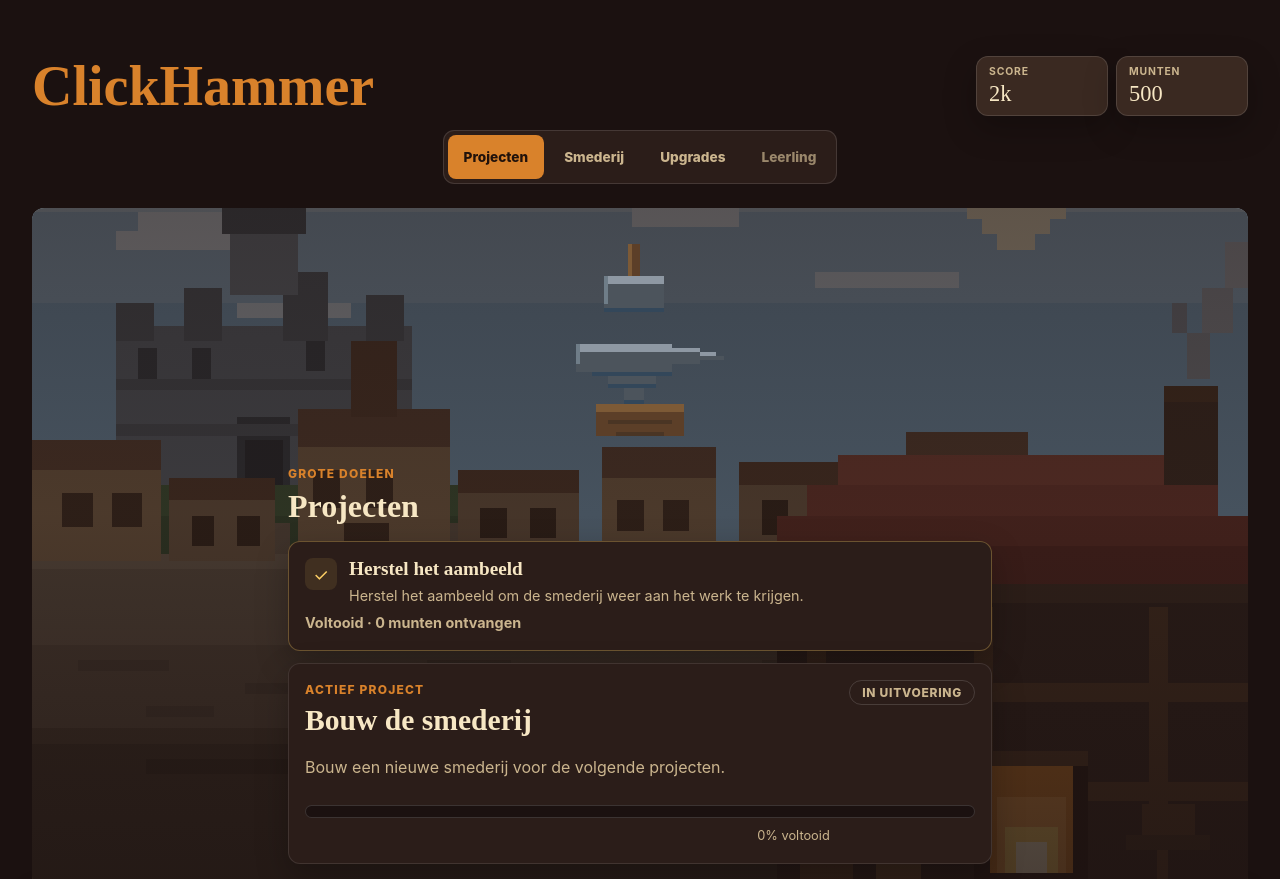
auto-clicker integration in App › shows the waiting status until an order is active
Click the tab with class "game-navigation__tab" showing "Upgrades": click(693, 157) [644, 135, 742, 179]
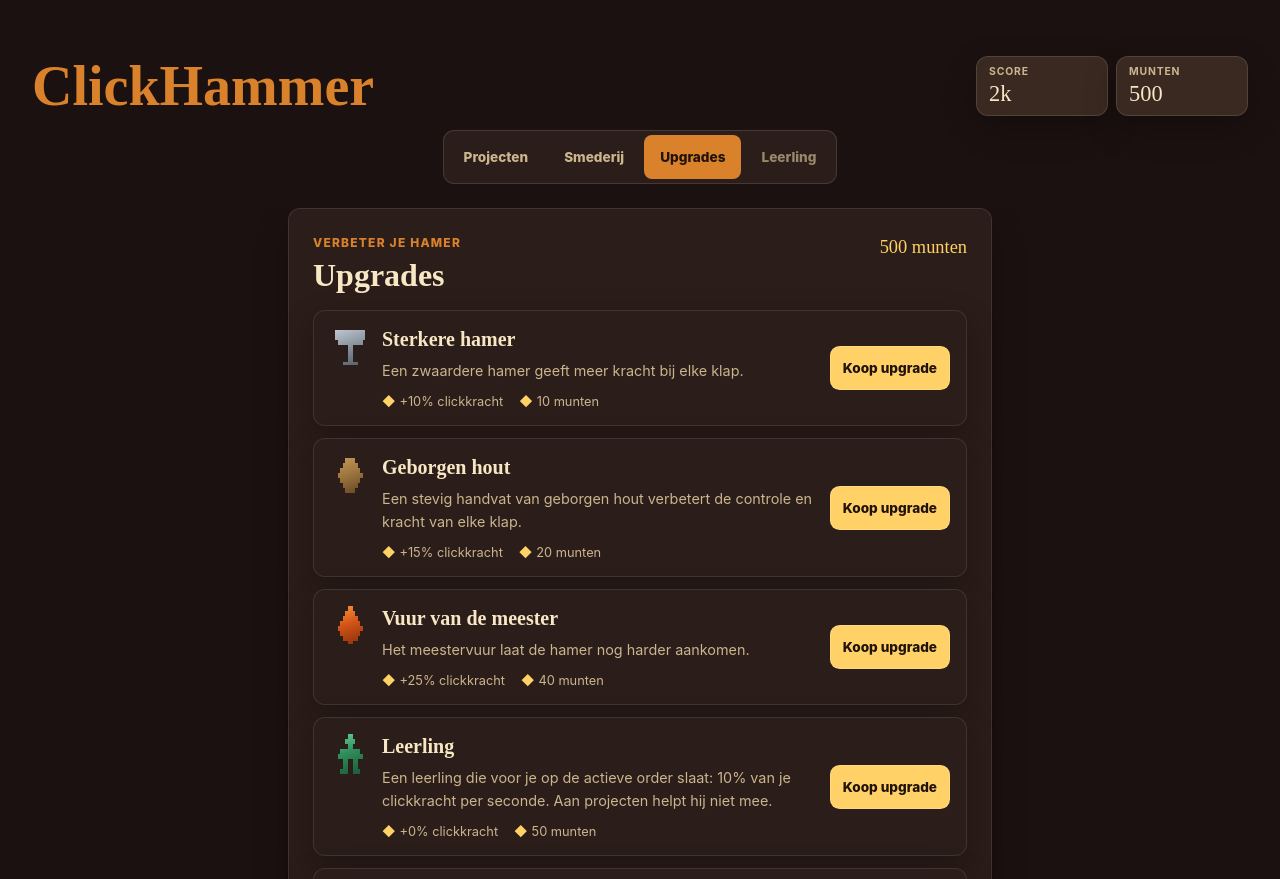
Click the 4th button "Koop upgrade": click(890, 787) [830, 765, 950, 809]
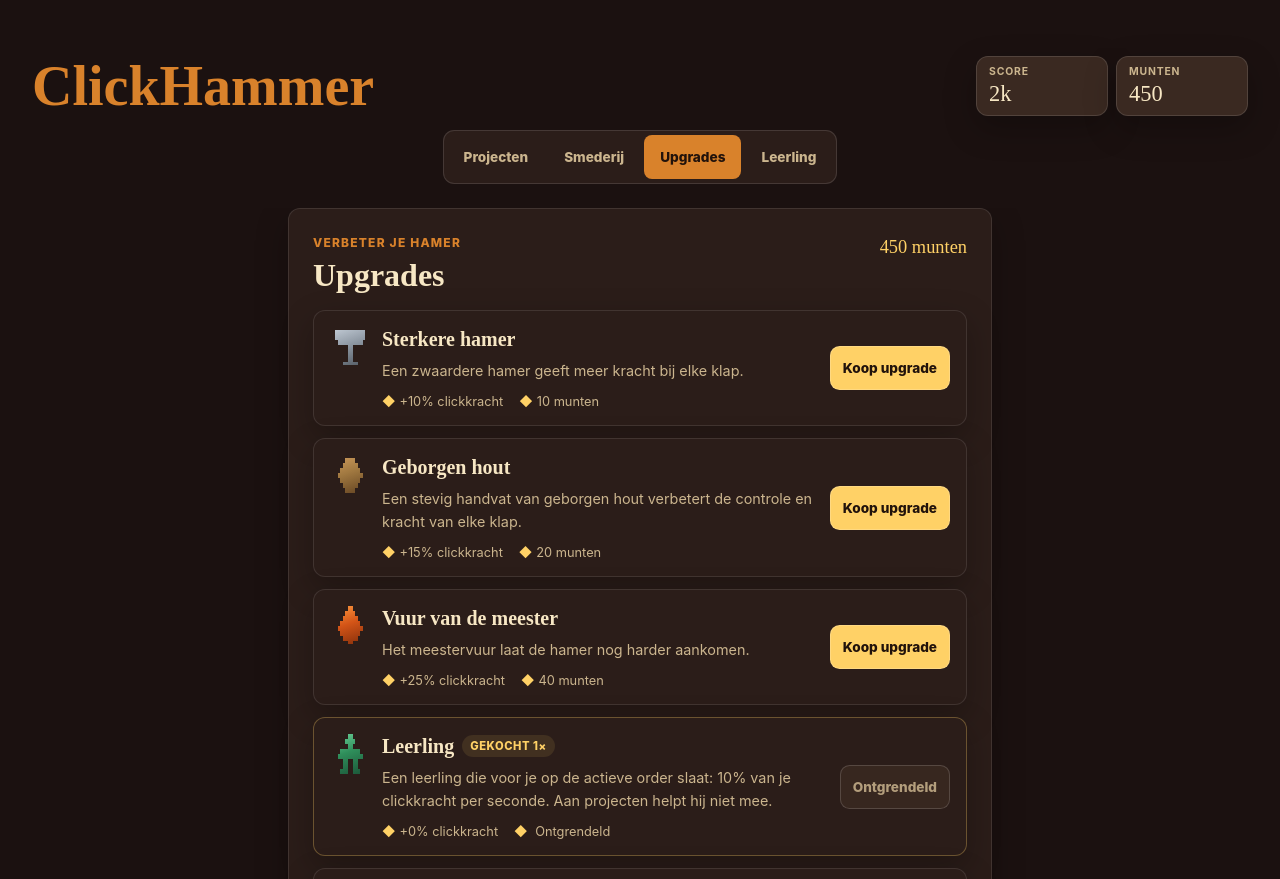
Click the tab with class "game-navigation__tab" showing "Leerling": click(789, 157) [746, 135, 832, 179]
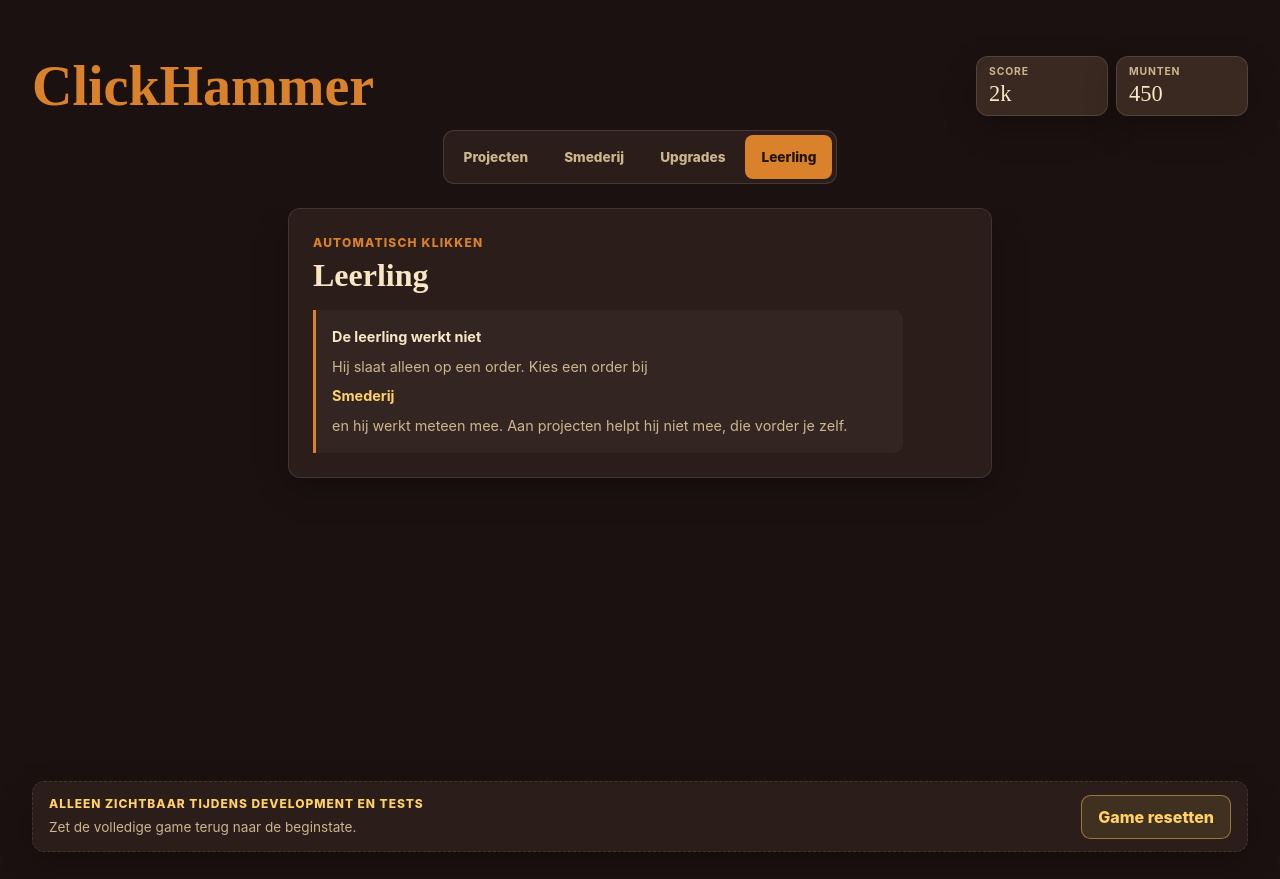
Expected: the element with id "game-panel-apprentice" does not show "punten per seconde"
Expected: the message with class "apprentice-panel__waiting" is shown, [313, 310, 903, 453]
Click the tab with class "game-navigation__tab" showing "Smederij": click(594, 157) [548, 135, 640, 179]
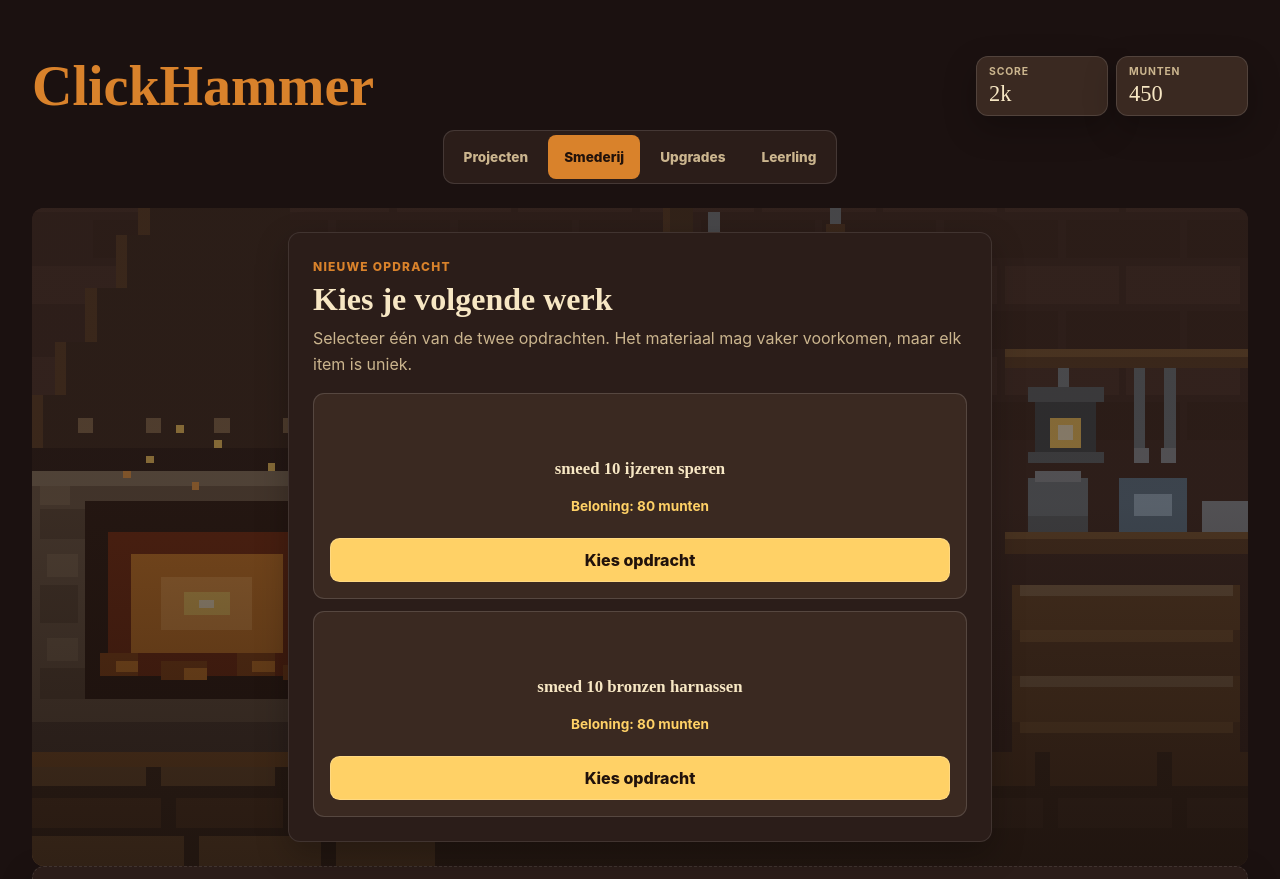
Click the button "Kies opdracht" below "smeed 10 ijzeren speren": click(640, 560) [330, 538, 950, 582]
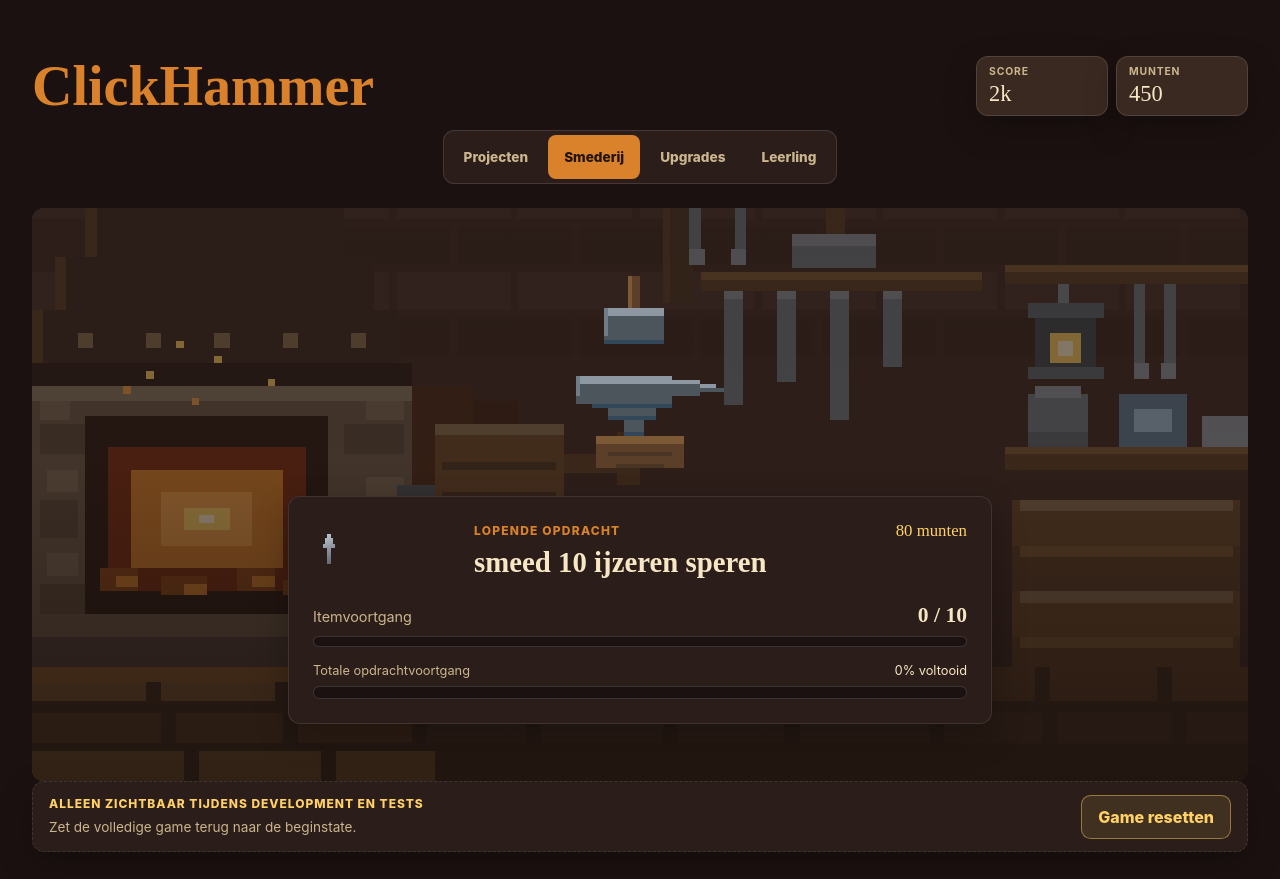
Click the tab with class "game-navigation__tab" showing "Leerling": click(789, 157) [746, 135, 832, 179]
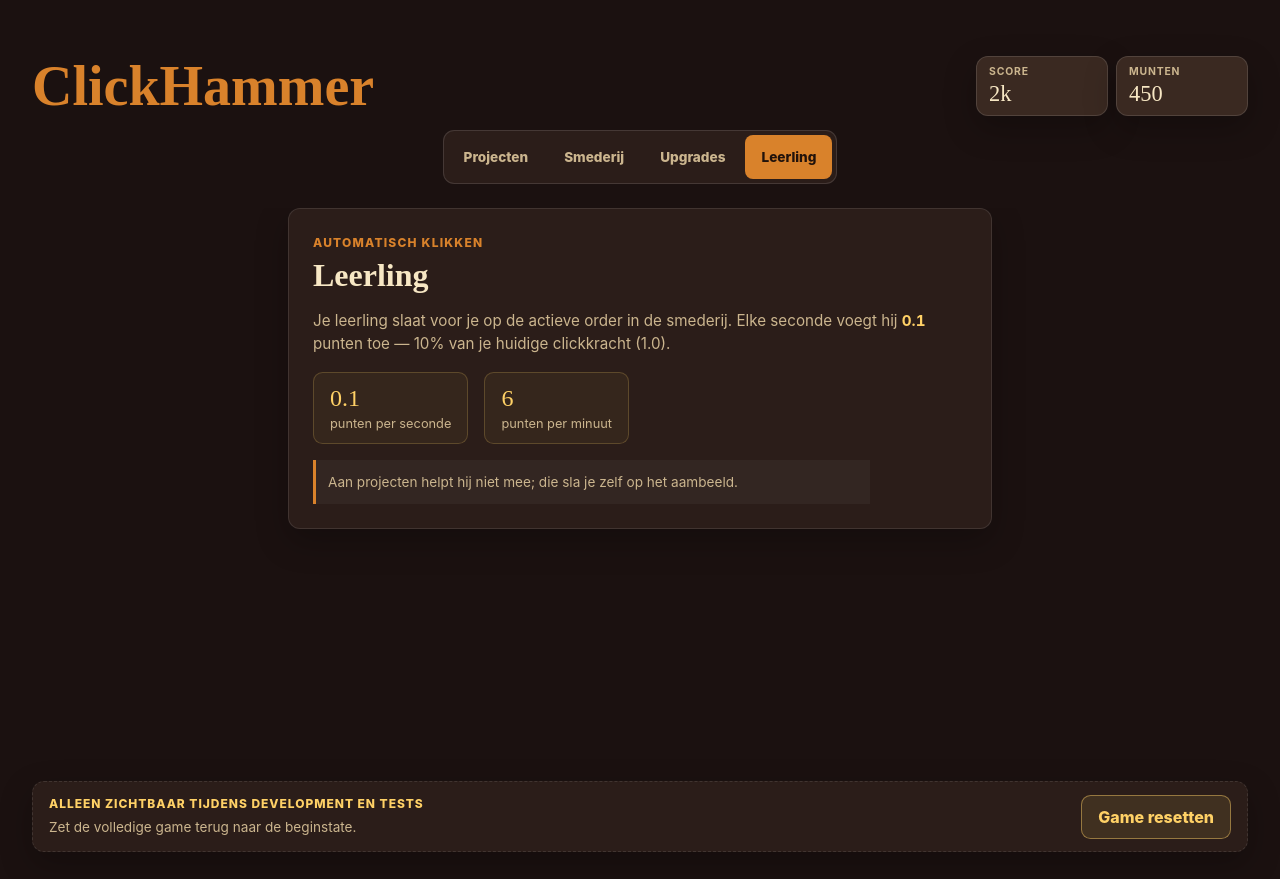
Expected: the element with class "apprentice-panel__stats" is shown, [313, 372, 629, 444]
Expected: the panel with id "game-panel-apprentice" shows "punten per seconde", [330, 416, 451, 431]
